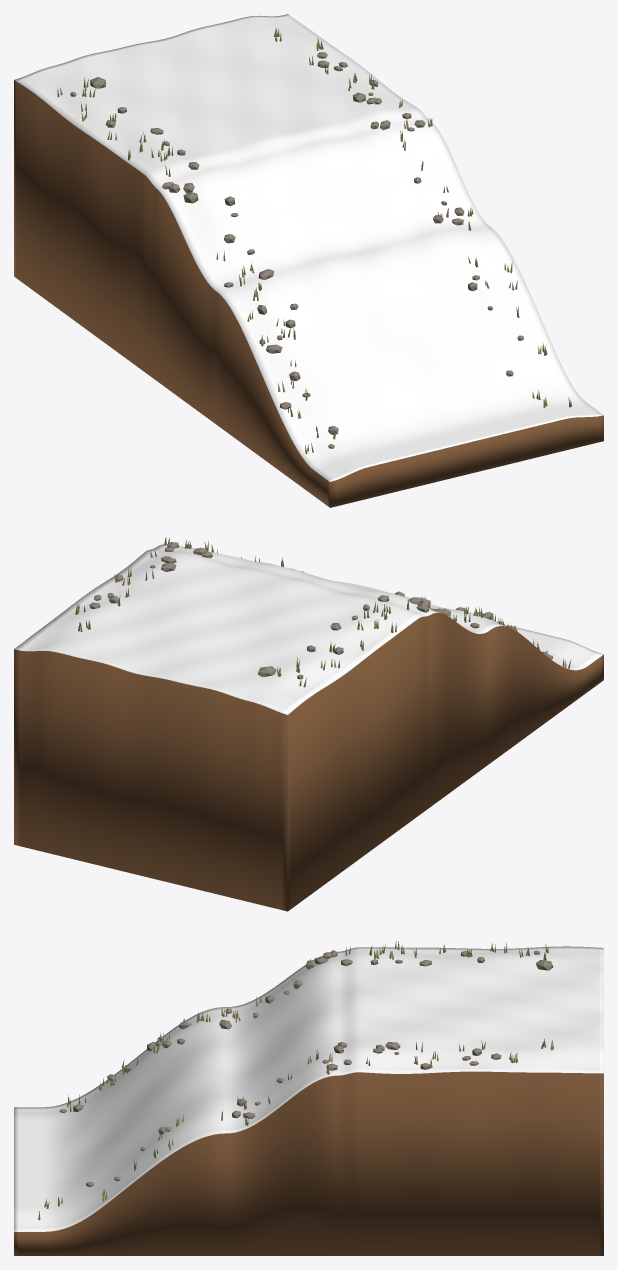
Rendered from rampa_backup_preotimizacao.glb.
3 views of the same model, one above another, from view 1: azimuth 30°, elevation 25°; view 2: azimuth 150°, elevation 25°; view 3: azimuth 270°, elevation 25° (orthographic). The views are drawn at different scales.
Parts seen in each view (by area): view 1: RAMPA DE TERRA | Corpo fechado; view 2: RAMPA DE TERRA | Corpo fechado; view 3: RAMPA DE TERRA | Corpo fechado.
Part boxes in pixels (x1=…): RAMPA DE TERRA | Corpo fechado: x1=14, y1=14, x2=603, y2=507; RAMPA DE TERRA | Corpo fechado: x1=14, y1=544, x2=603, y2=911; RAMPA DE TERRA | Corpo fechado: x1=14, y1=946, x2=603, y2=1255.
Bounding box in the file's own units: 5 × 3.72 × 10.
